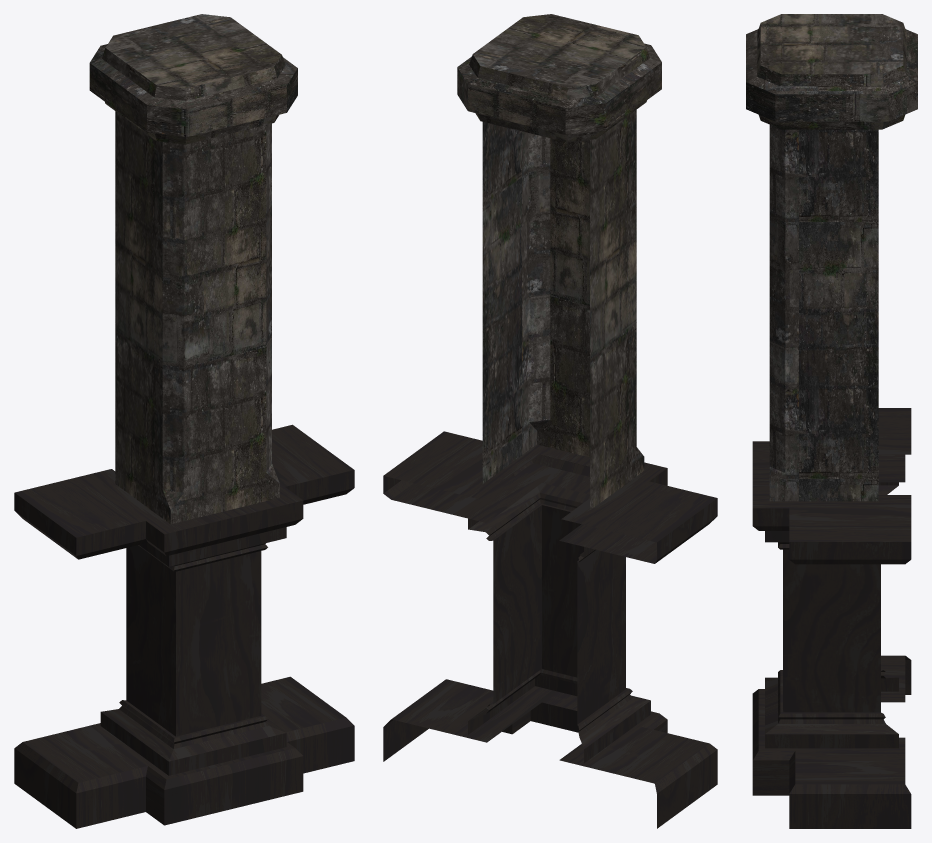
File: middle_column.obj
3 renders of one model, left to right at view 1: azimuth 30°, elevation 25°; view 2: azimuth 150°, elevation 25°; view 3: azimuth 270°, elevation 25°, orthographic.
Parts seen in each view (by area): view 1: [Imported]_middle_middle; view 2: [Imported]_middle_middle; view 3: [Imported]_middle_middle.
Boxes of the visible parts, <box> form: [Imported]_middle_middle: <box>14,14,354,828</box>; [Imported]_middle_middle: <box>383,14,717,828</box>; [Imported]_middle_middle: <box>746,14,917,828</box>.
Size of the model in its own units: 5.12 by 12.8 by 2.78.
